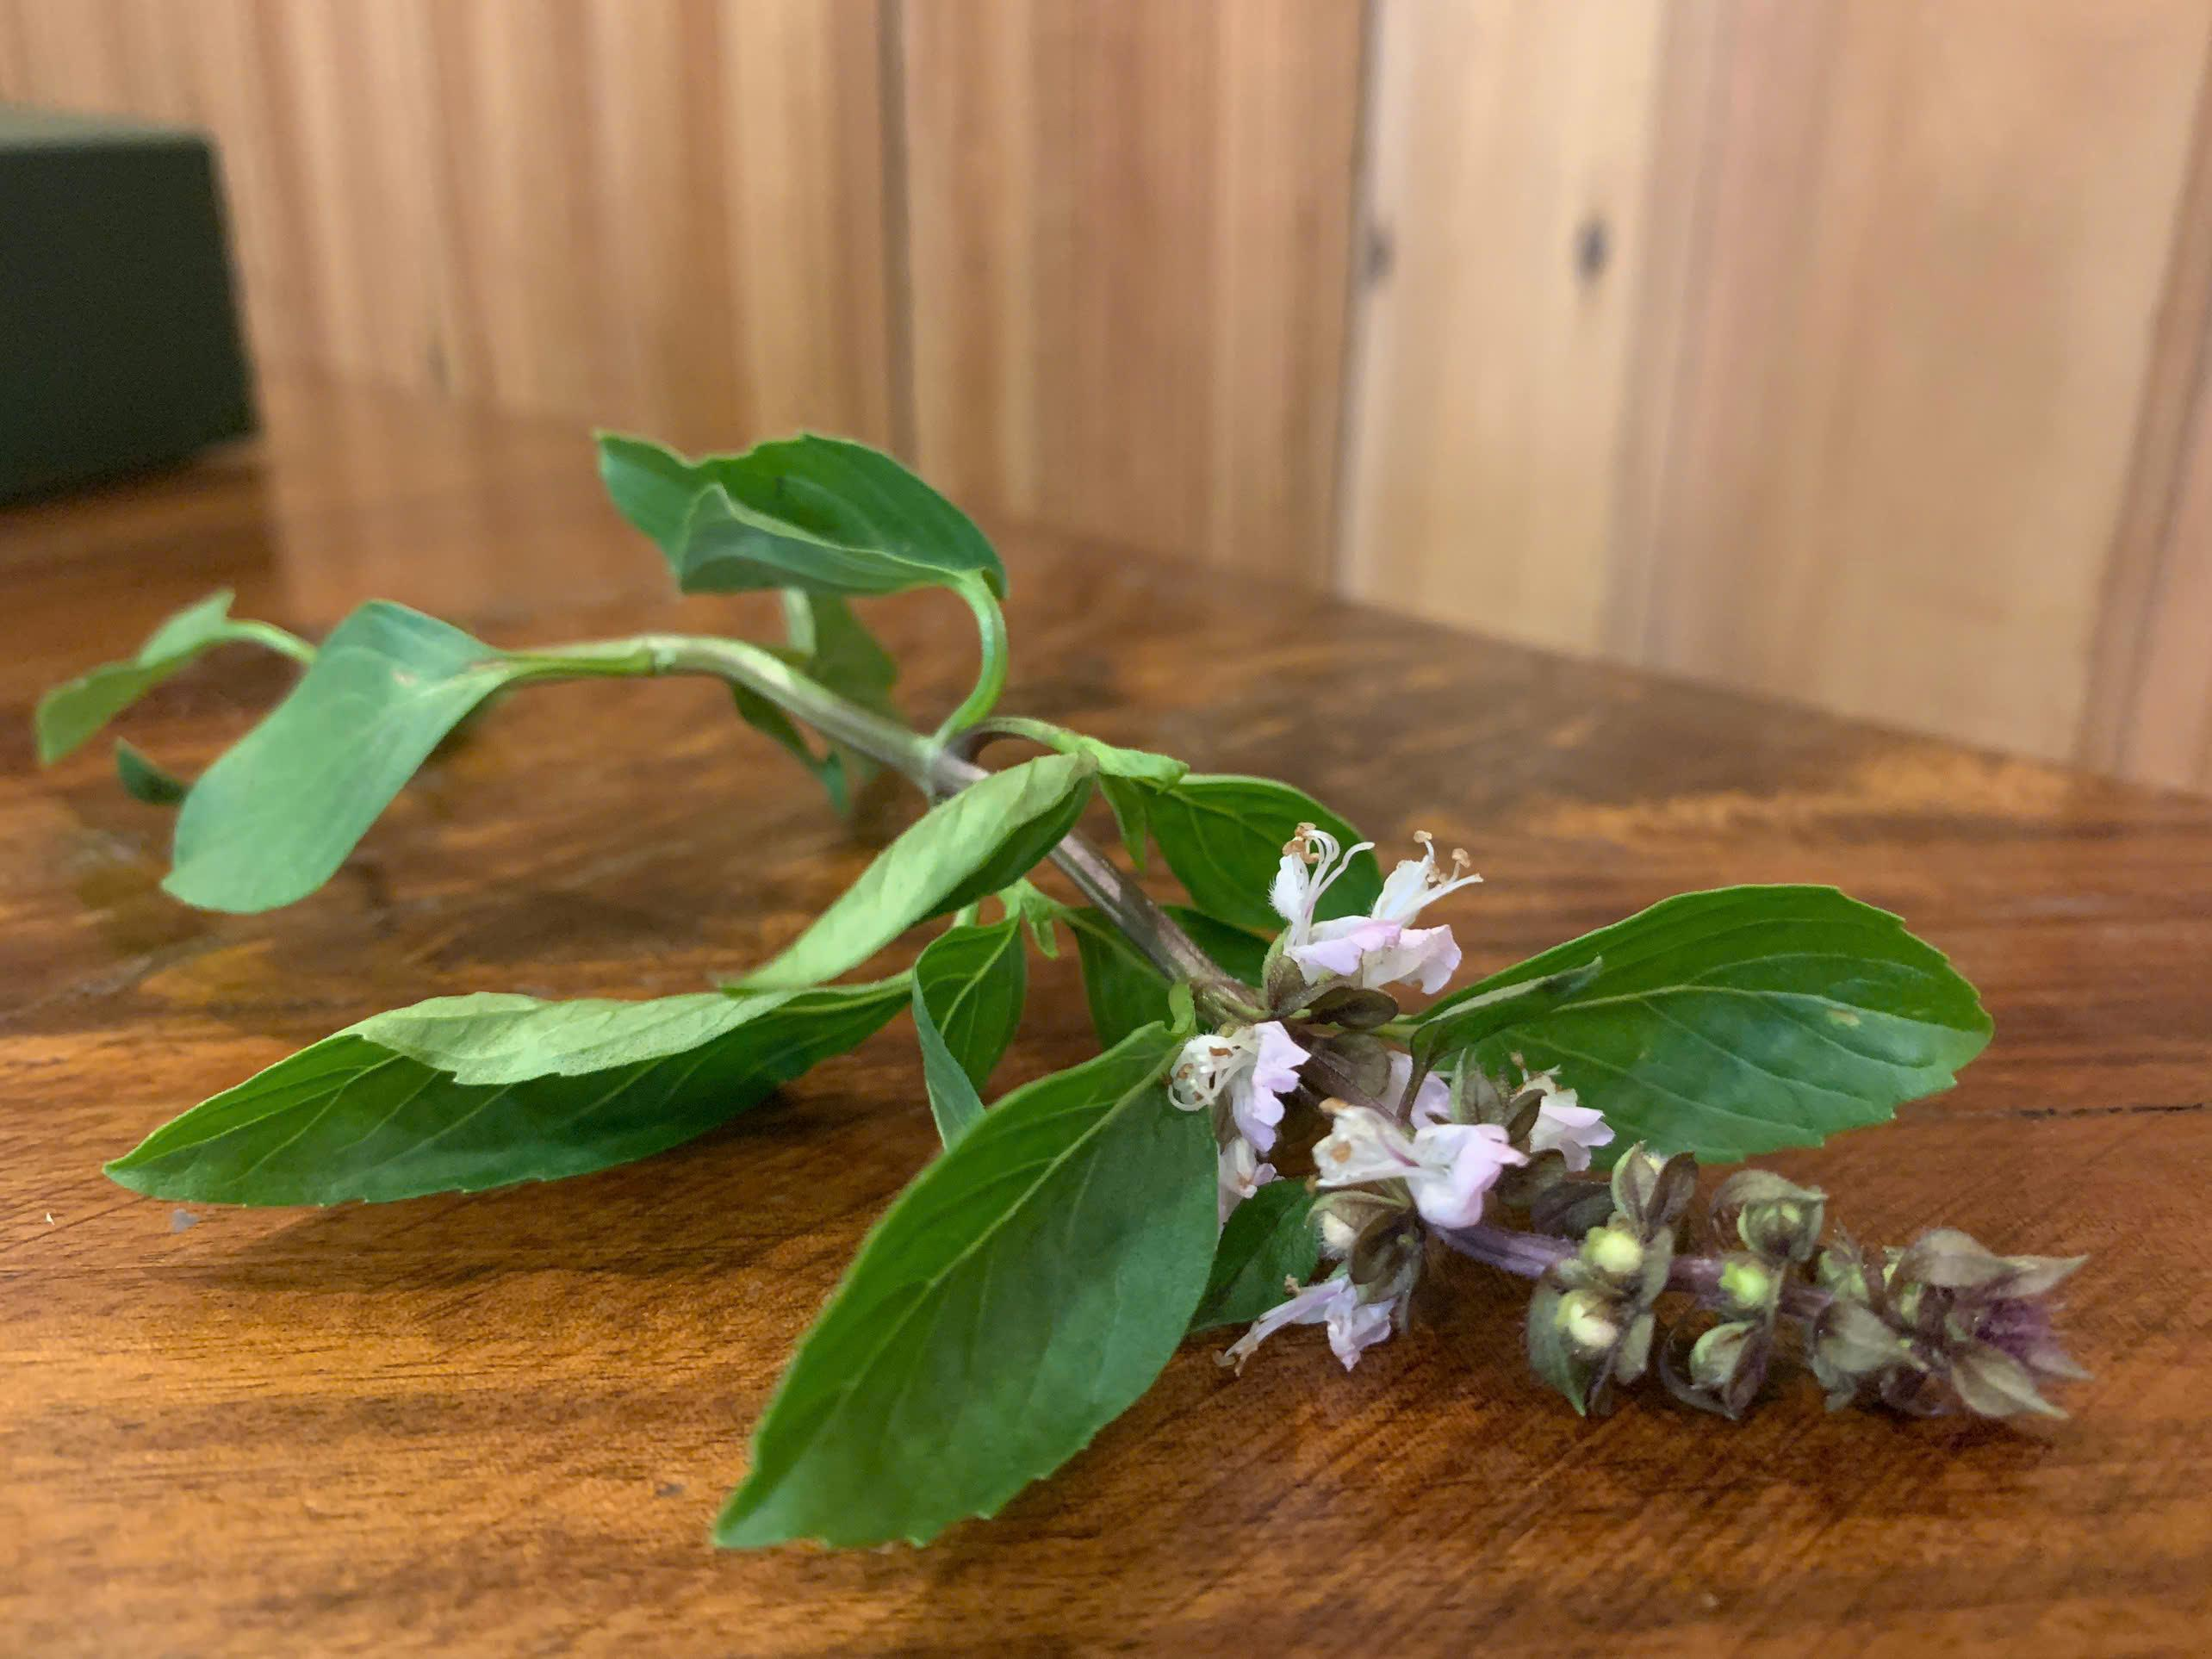Huu co: (37, 439, 1996, 1520)
